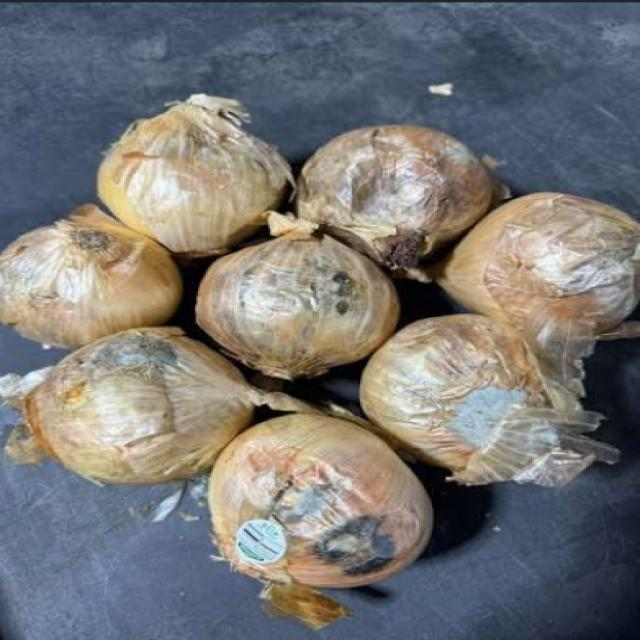mechanical_damage: (3, 87, 640, 596)
